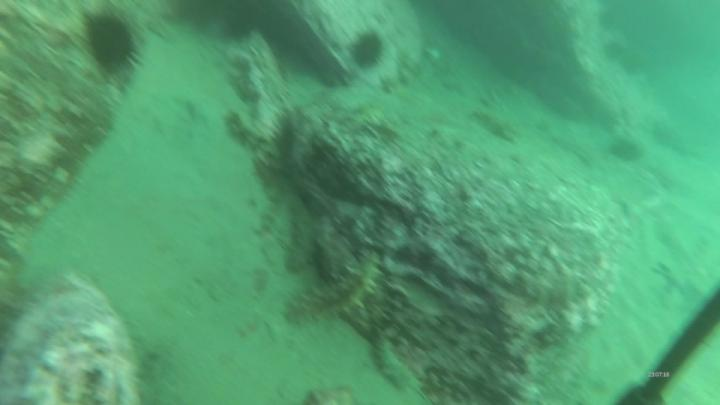echinus: (284, 249, 386, 331)
starfish: (85, 10, 142, 75), (351, 29, 385, 73)
